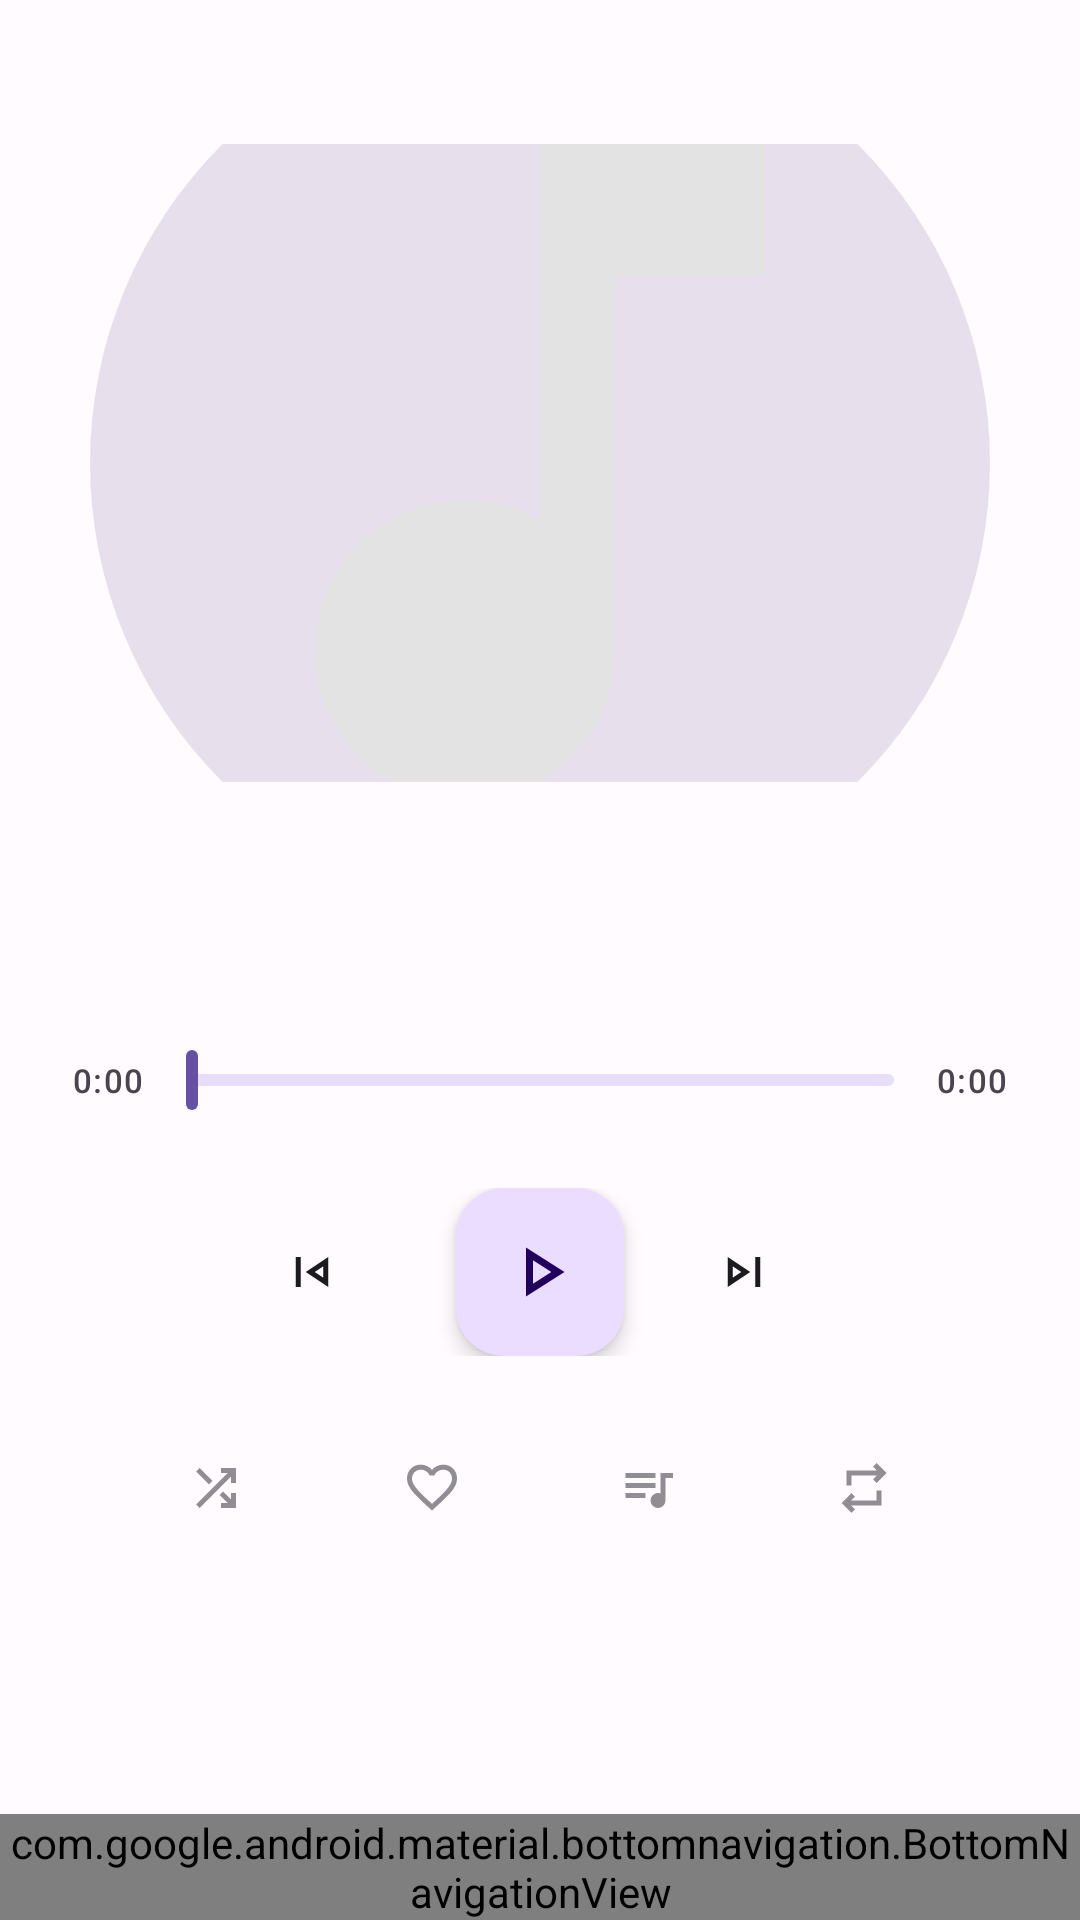

Screen size 1080 × 1920. Icon name, then its center in pixels as (x,y):
favorite border: (432,1487)
play: (540,1272)
queue music: (649,1490)
repeat: (864,1488)
shuffle: (216,1488)
skip next: (744,1272)
skip previous: (312,1272)
